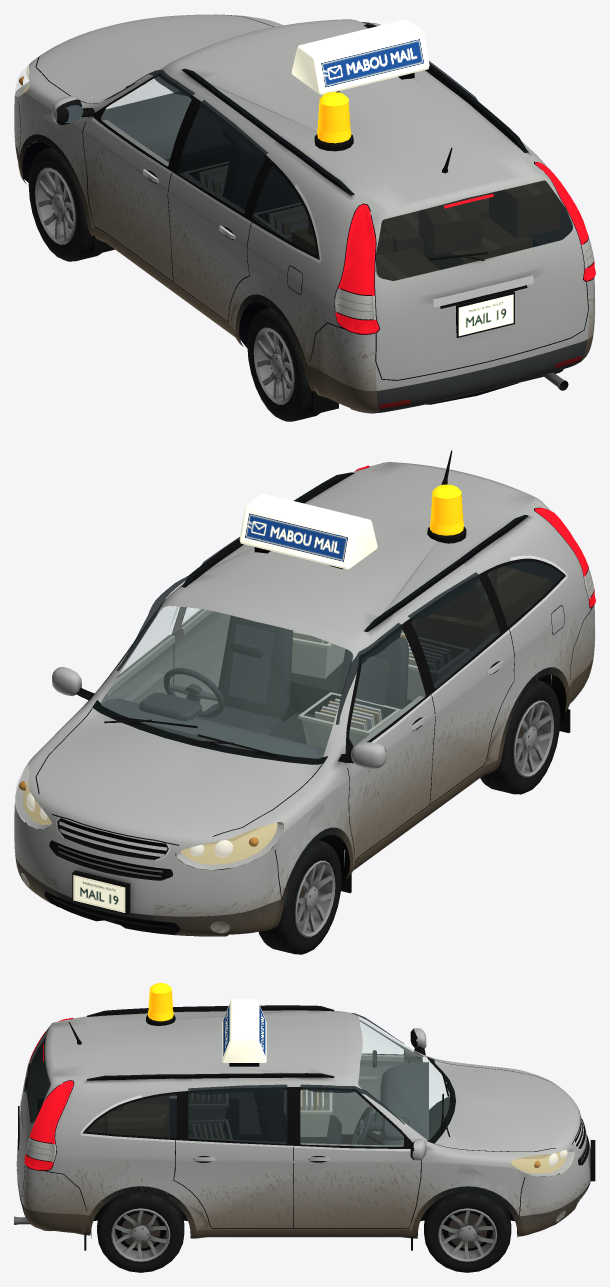
The model's file is mail-car.glb.
3 views of the same model, one above another, from view 1: azimuth 30°, elevation 25°; view 2: azimuth 150°, elevation 25°; view 3: azimuth 270°, elevation 25° (orthographic). The views are drawn at different scales.
Visible parts, largest first — view 1: body_Body_paint, body_Matte, body_Rear_tint, body_Mud_overlay, sign_light, body_Front_glass, wheel_Matte_wheel_rl, wheel_Matte_wheel_fl, brake_left_upper, wheel_Alloy_wheel_rl, wheel_Alloy_wheel_fl, body_Sign_atlas (+3 smaller); view 2: body_Body_paint, body_Matte, body_Front_glass, body_Mud_overlay, body_Rear_tint, sign_light, body_Lamp_lens, wheel_Matte_wheel_fl, wheel_Matte_wheel_rl, body_Head_lamp, wheel_Alloy_wheel_fl, wheel_Alloy_wheel_rl (+3 smaller); view 3: body_Body_paint, body_Matte, body_Mud_overlay, body_Rear_tint, body_Front_glass, driver_window, wheel_Matte_wheel_rr, wheel_Matte, sign_light, wheel_Alloy_wheel_rr, wheel_Alloy, brake_right_upper (+3 smaller).
Boxes of the visible parts, bbox=[...] form: body_Body_paint: bbox=[14, 14, 594, 394]; body_Matte: bbox=[15, 14, 594, 414]; body_Rear_tint: bbox=[117, 22, 572, 280]; body_Mud_overlay: bbox=[15, 128, 594, 413]; sign_light: bbox=[291, 19, 429, 95]; body_Front_glass: bbox=[101, 31, 252, 165]; wheel_Matte_wheel_rl: bbox=[247, 307, 320, 421]; wheel_Matte_wheel_fl: bbox=[28, 147, 101, 261]; brake_left_upper: bbox=[338, 199, 469, 295]; wheel_Alloy_wheel_rl: bbox=[253, 327, 294, 404]; wheel_Alloy_wheel_fl: bbox=[35, 167, 75, 244]; body_Sign_atlas: bbox=[458, 294, 513, 336]; body_Body_paint: bbox=[14, 462, 594, 933]; body_Matte: bbox=[15, 450, 594, 936]; body_Front_glass: bbox=[101, 606, 425, 758]; body_Mud_overlay: bbox=[15, 614, 594, 936]; body_Rear_tint: bbox=[116, 537, 564, 724]; sign_light: bbox=[239, 493, 377, 569]; body_Lamp_lens: bbox=[15, 761, 283, 869]; wheel_Matte_wheel_fl: bbox=[258, 840, 341, 954]; wheel_Matte_wheel_rl: bbox=[480, 680, 560, 794]; body_Head_lamp: bbox=[23, 779, 277, 864]; wheel_Alloy_wheel_fl: bbox=[294, 860, 335, 937]; wheel_Alloy_wheel_rl: bbox=[513, 700, 553, 777]; body_Body_paint: bbox=[14, 1010, 590, 1234]; body_Matte: bbox=[16, 1005, 595, 1250]; body_Mud_overlay: bbox=[23, 1163, 585, 1238]; body_Rear_tint: bbox=[26, 1013, 404, 1143]; body_Front_glass: bbox=[358, 1017, 449, 1139]; driver_window: bbox=[300, 1090, 403, 1146]; wheel_Matte_wheel_rr: bbox=[97, 1191, 184, 1272]; wheel_Matte: bbox=[424, 1191, 511, 1272]; sign_light: bbox=[222, 998, 266, 1062]; wheel_Alloy_wheel_rr: bbox=[111, 1208, 170, 1261]; wheel_Alloy: bbox=[438, 1208, 497, 1261]; brake_right_upper: bbox=[29, 1052, 73, 1144].
Bounding box in the file's own units: 2.29 × 1.96 × 4.67.
10 materials, 3 textured.
